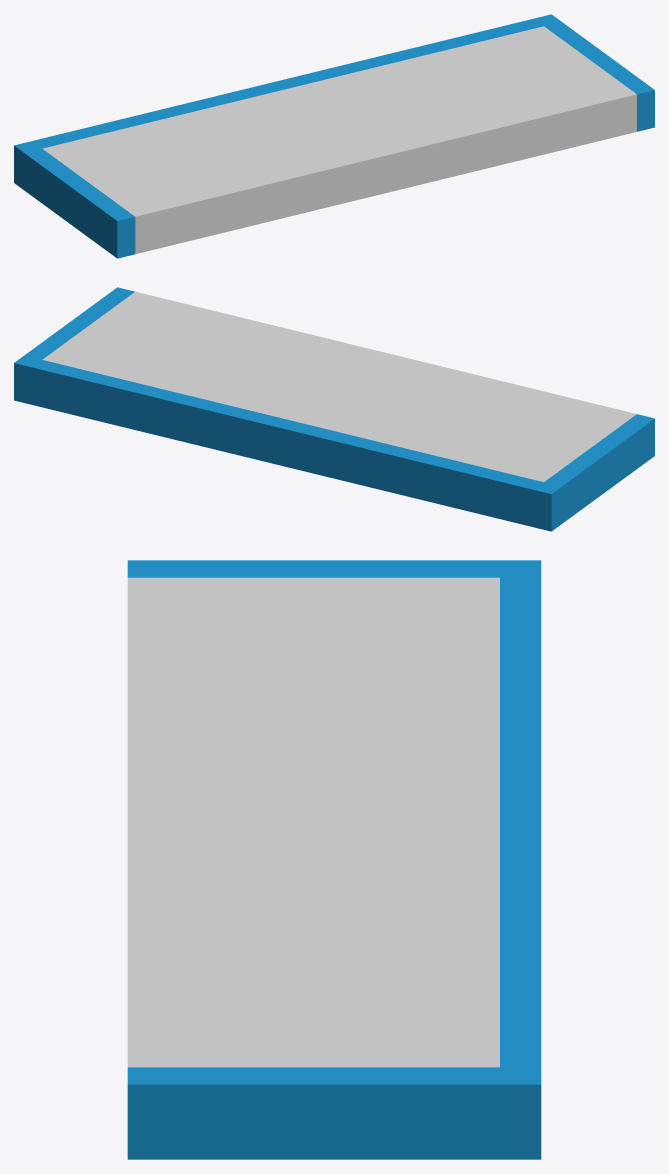
The model's file is WideEnd.fbx.
The picture shows the model from 3 angles, top to bottom: view 1: azimuth 30°, elevation 25°; view 2: azimuth 150°, elevation 25°; view 3: azimuth 270°, elevation 25°; orthographic projection. The views are drawn at different scales.
Visible parts, largest first — view 1: Box_4; view 2: Box_4; view 3: Box_4.
Boxes of the visible parts, bbox=[...] form: Box_4: bbox=[14, 14, 654, 258]; Box_4: bbox=[14, 287, 654, 531]; Box_4: bbox=[127, 560, 541, 1159].
Size of the model in its own units: 30 by 2 by 10.
